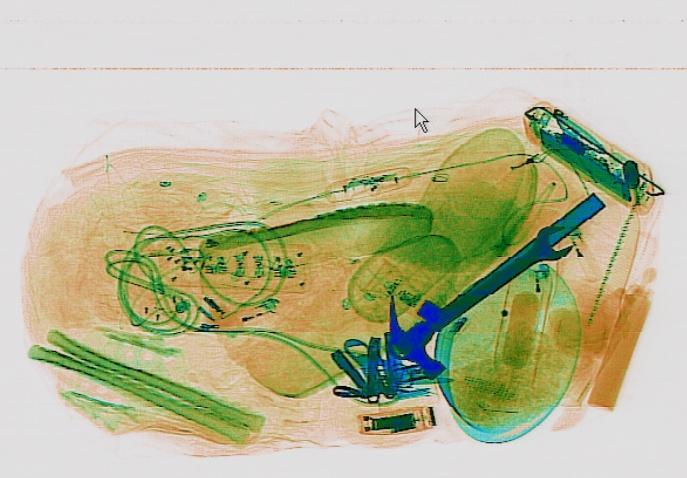wrench: (386, 225, 574, 361)
